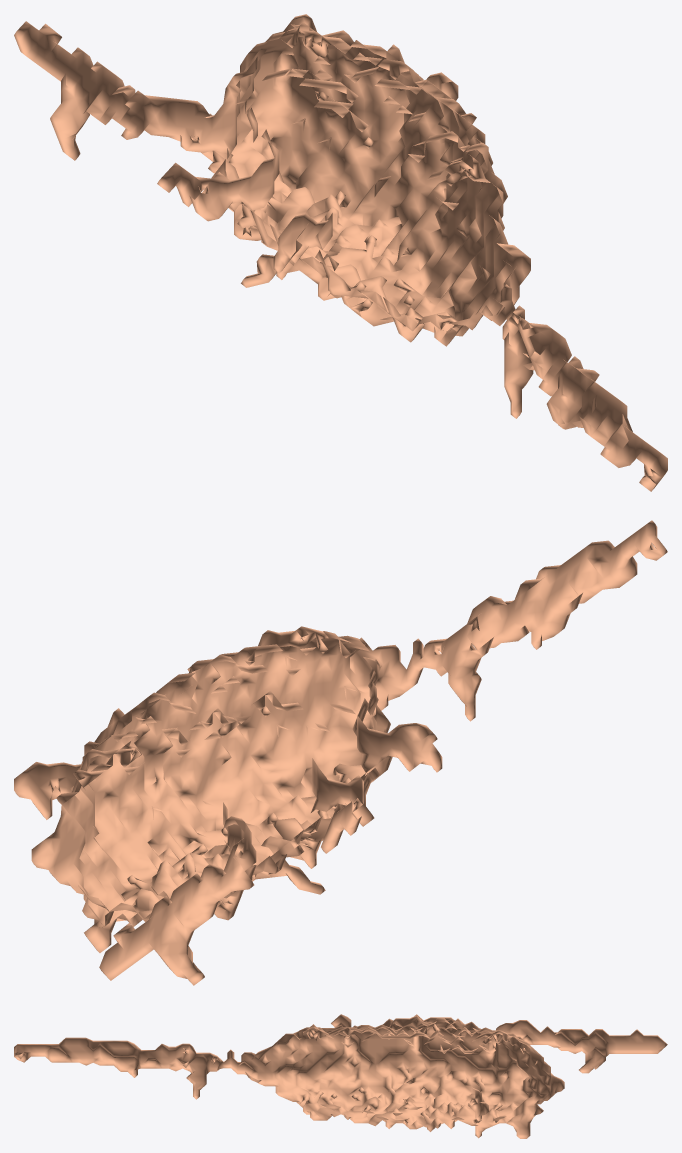
The model's file is osteocyte_38.glb.
3 renders of one model, top to bottom at view 1: azimuth 30°, elevation 25°; view 2: azimuth 150°, elevation 25°; view 3: azimuth 270°, elevation 25°, orthographic. The views are drawn at different scales.
Visible parts, largest first — view 1: osteocyte_38; view 2: osteocyte_38; view 3: osteocyte_38.
Boxes of the visible parts, x1,y1,x2,y2 form: osteocyte_38: (14, 14, 667, 491); osteocyte_38: (14, 520, 667, 985); osteocyte_38: (14, 1014, 667, 1138).
Bounding box in the file's own units: 13.48 × 8.18 × 45.74.
